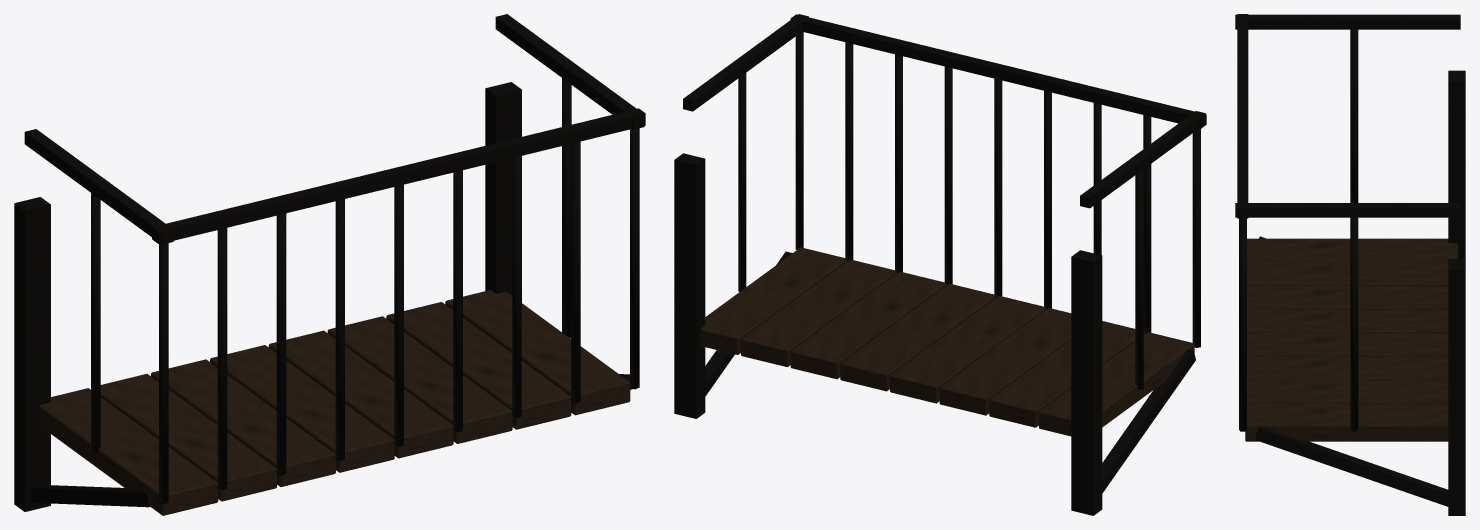
File: small_balcony.glb
The picture shows the model from 3 angles, left to right: view 1: azimuth 30°, elevation 25°; view 2: azimuth 150°, elevation 25°; view 3: azimuth 270°, elevation 25°; orthographic projection. The views are drawn at different scales.
Visible parts, largest first — view 1: small_balcony; view 2: small_balcony; view 3: small_balcony.
Boxes of the visible parts, x1,y1,x2,y2 form: small_balcony: (14, 14, 645, 515); small_balcony: (674, 14, 1206, 515); small_balcony: (1235, 14, 1465, 515).
Bounding box in the file's own units: 1.9 × 1.36 × 0.93.
1 material, 1 textured.
